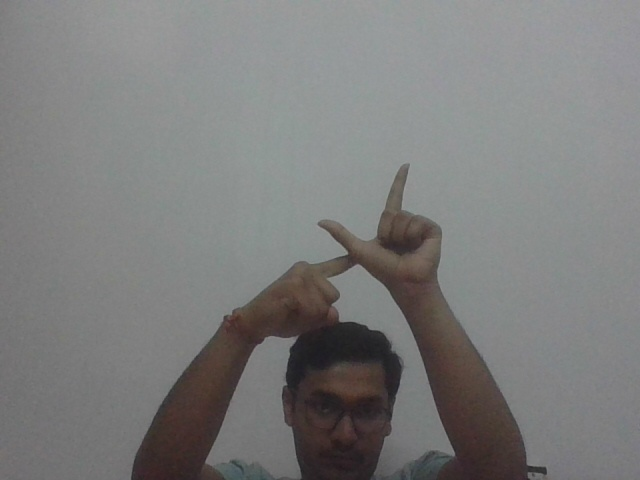Y: (260, 155, 453, 325)
